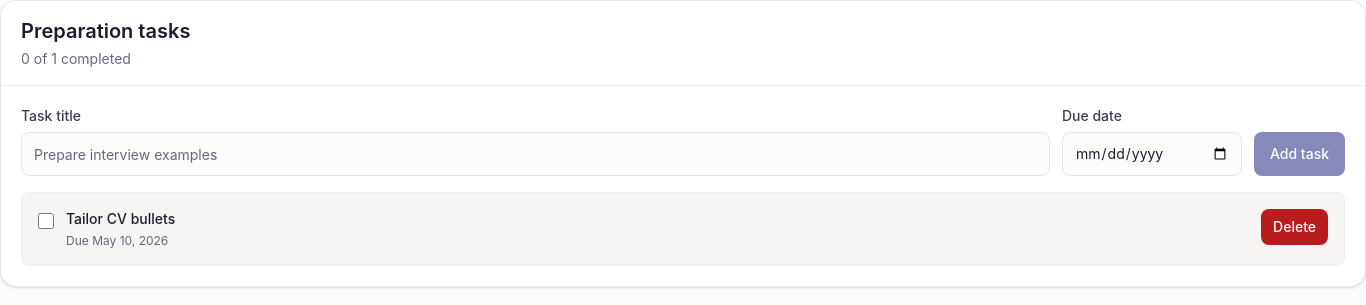
Test: JobDetailTasksPanel › toggles a task complete and back, and deletes it
Click the checkbox named "Tailor CV bullets" at [46, 221], box x1=38 y1=213 x2=54 y2=229
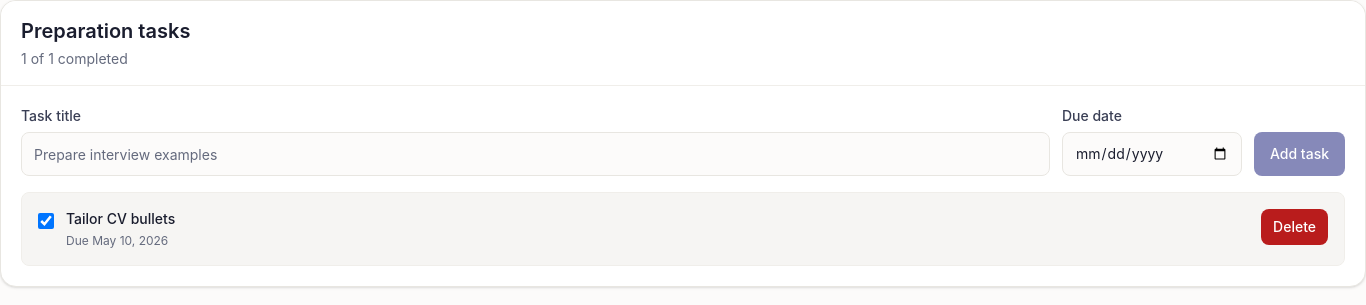
Expected: the checkbox named "Tailor CV bullets" is checked
Click the checkbox named "Tailor CV bullets" at [46, 221], box x1=38 y1=213 x2=54 y2=229
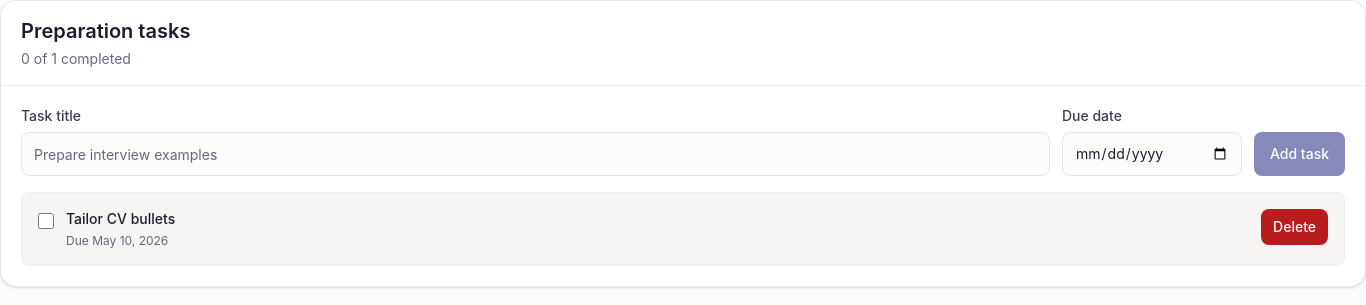
Expected: the checkbox named "Tailor CV bullets" is not checked, x1=38 y1=213 x2=54 y2=229
Click the button with aria-label "Delete task Tailor CV bullets" at [1295, 227], box x1=1261 y1=209 x2=1328 y2=245
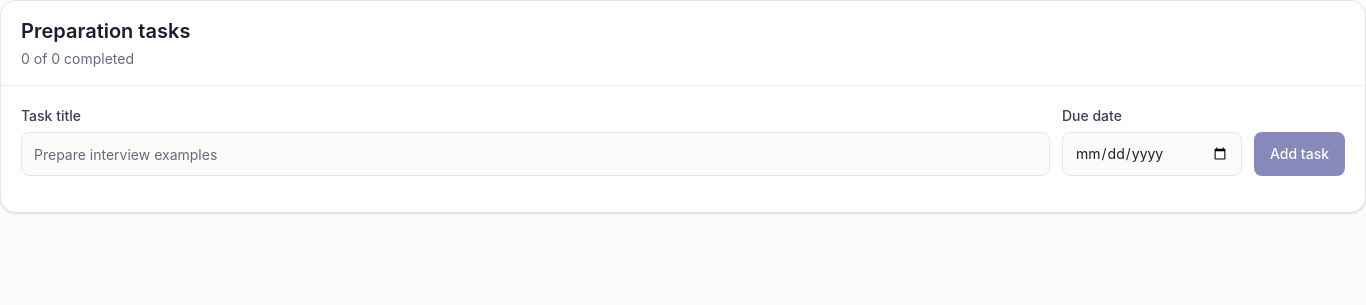
Expected: the text "Tailor CV bullets" is gone
